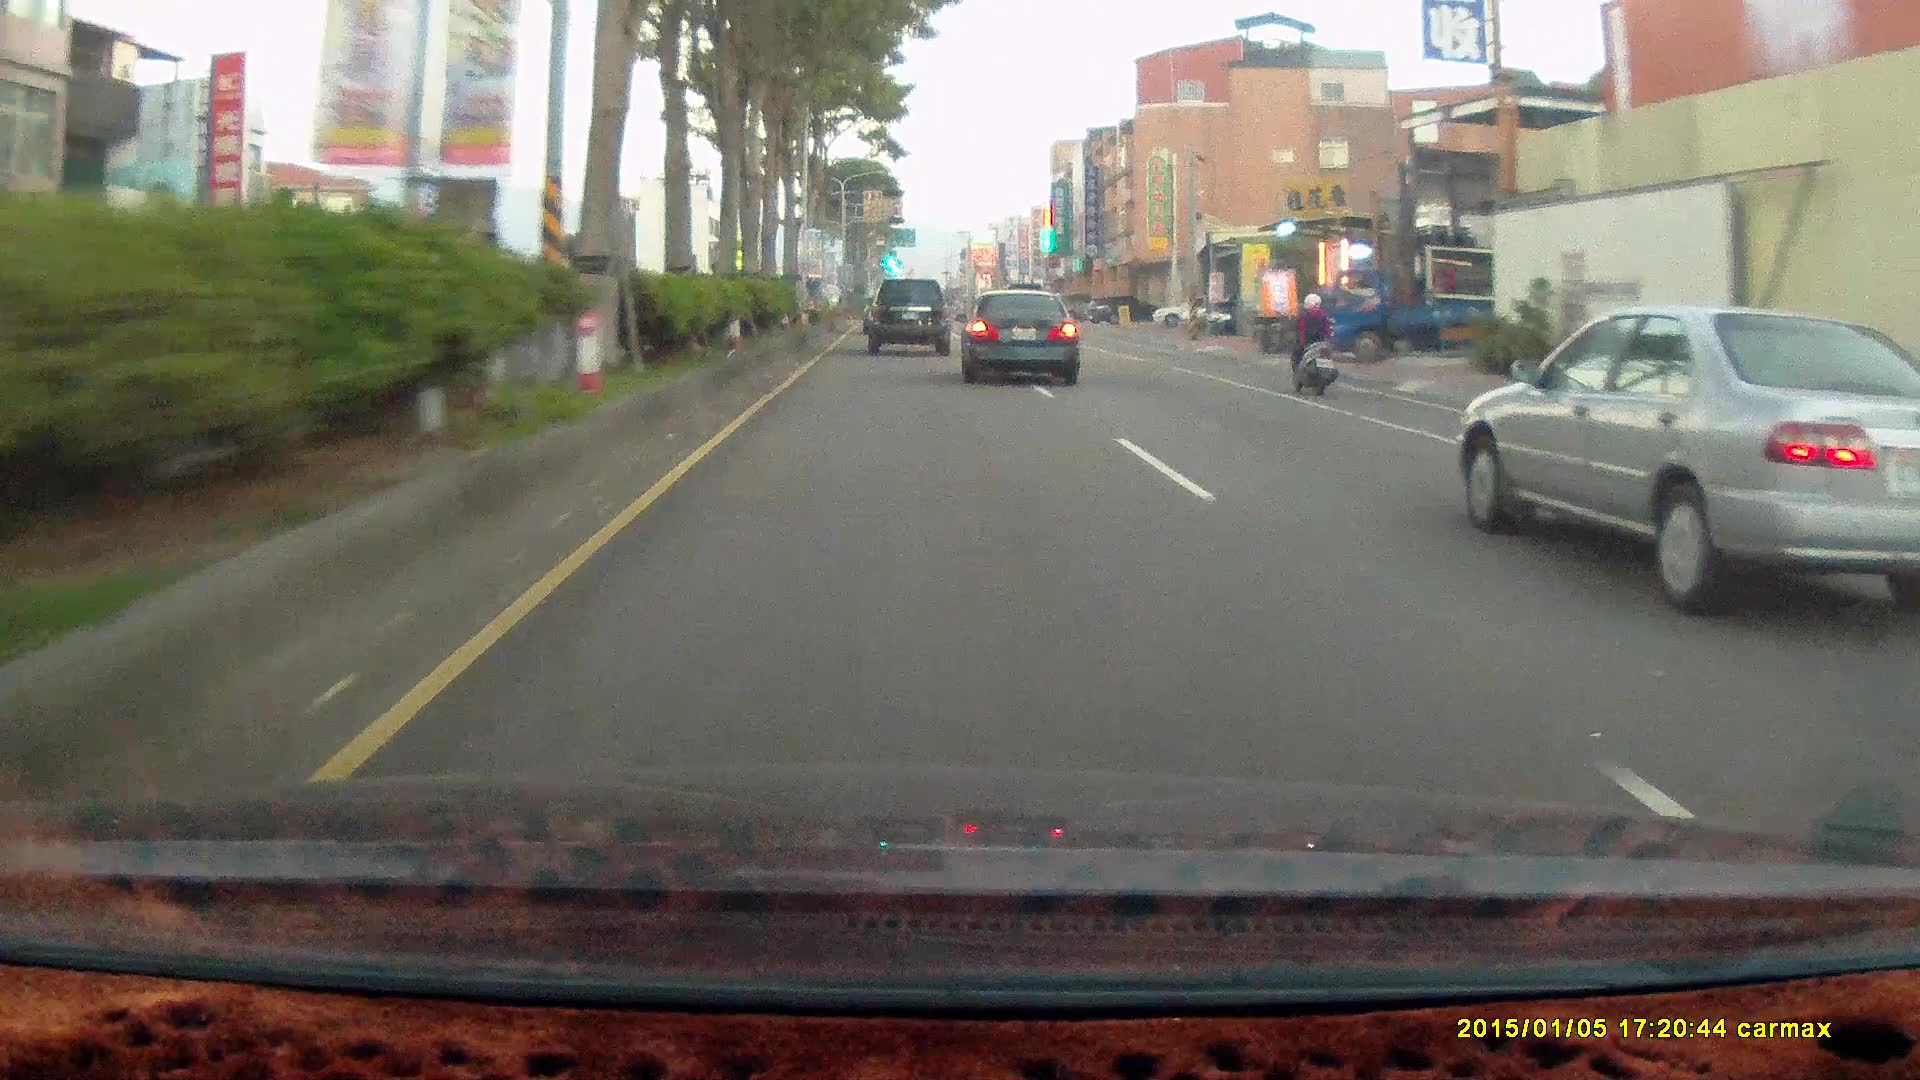rider: (1278, 285, 1348, 404), (1284, 288, 1341, 395)
vehicle: (1457, 306, 1920, 622), (1460, 307, 1920, 611), (1321, 269, 1545, 367), (1322, 270, 1495, 356), (952, 287, 1079, 385), (968, 295, 1090, 387), (864, 281, 951, 355), (868, 282, 955, 355), (1152, 301, 1223, 333), (1089, 295, 1155, 324)
